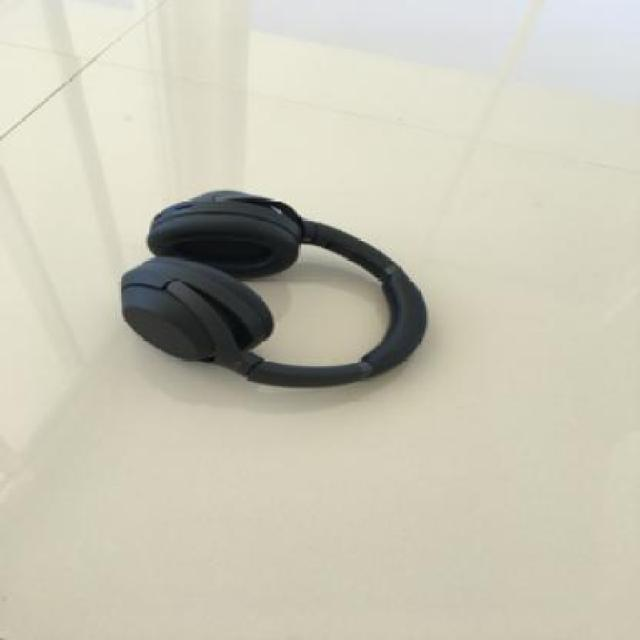earphone: (123, 87, 480, 425)
